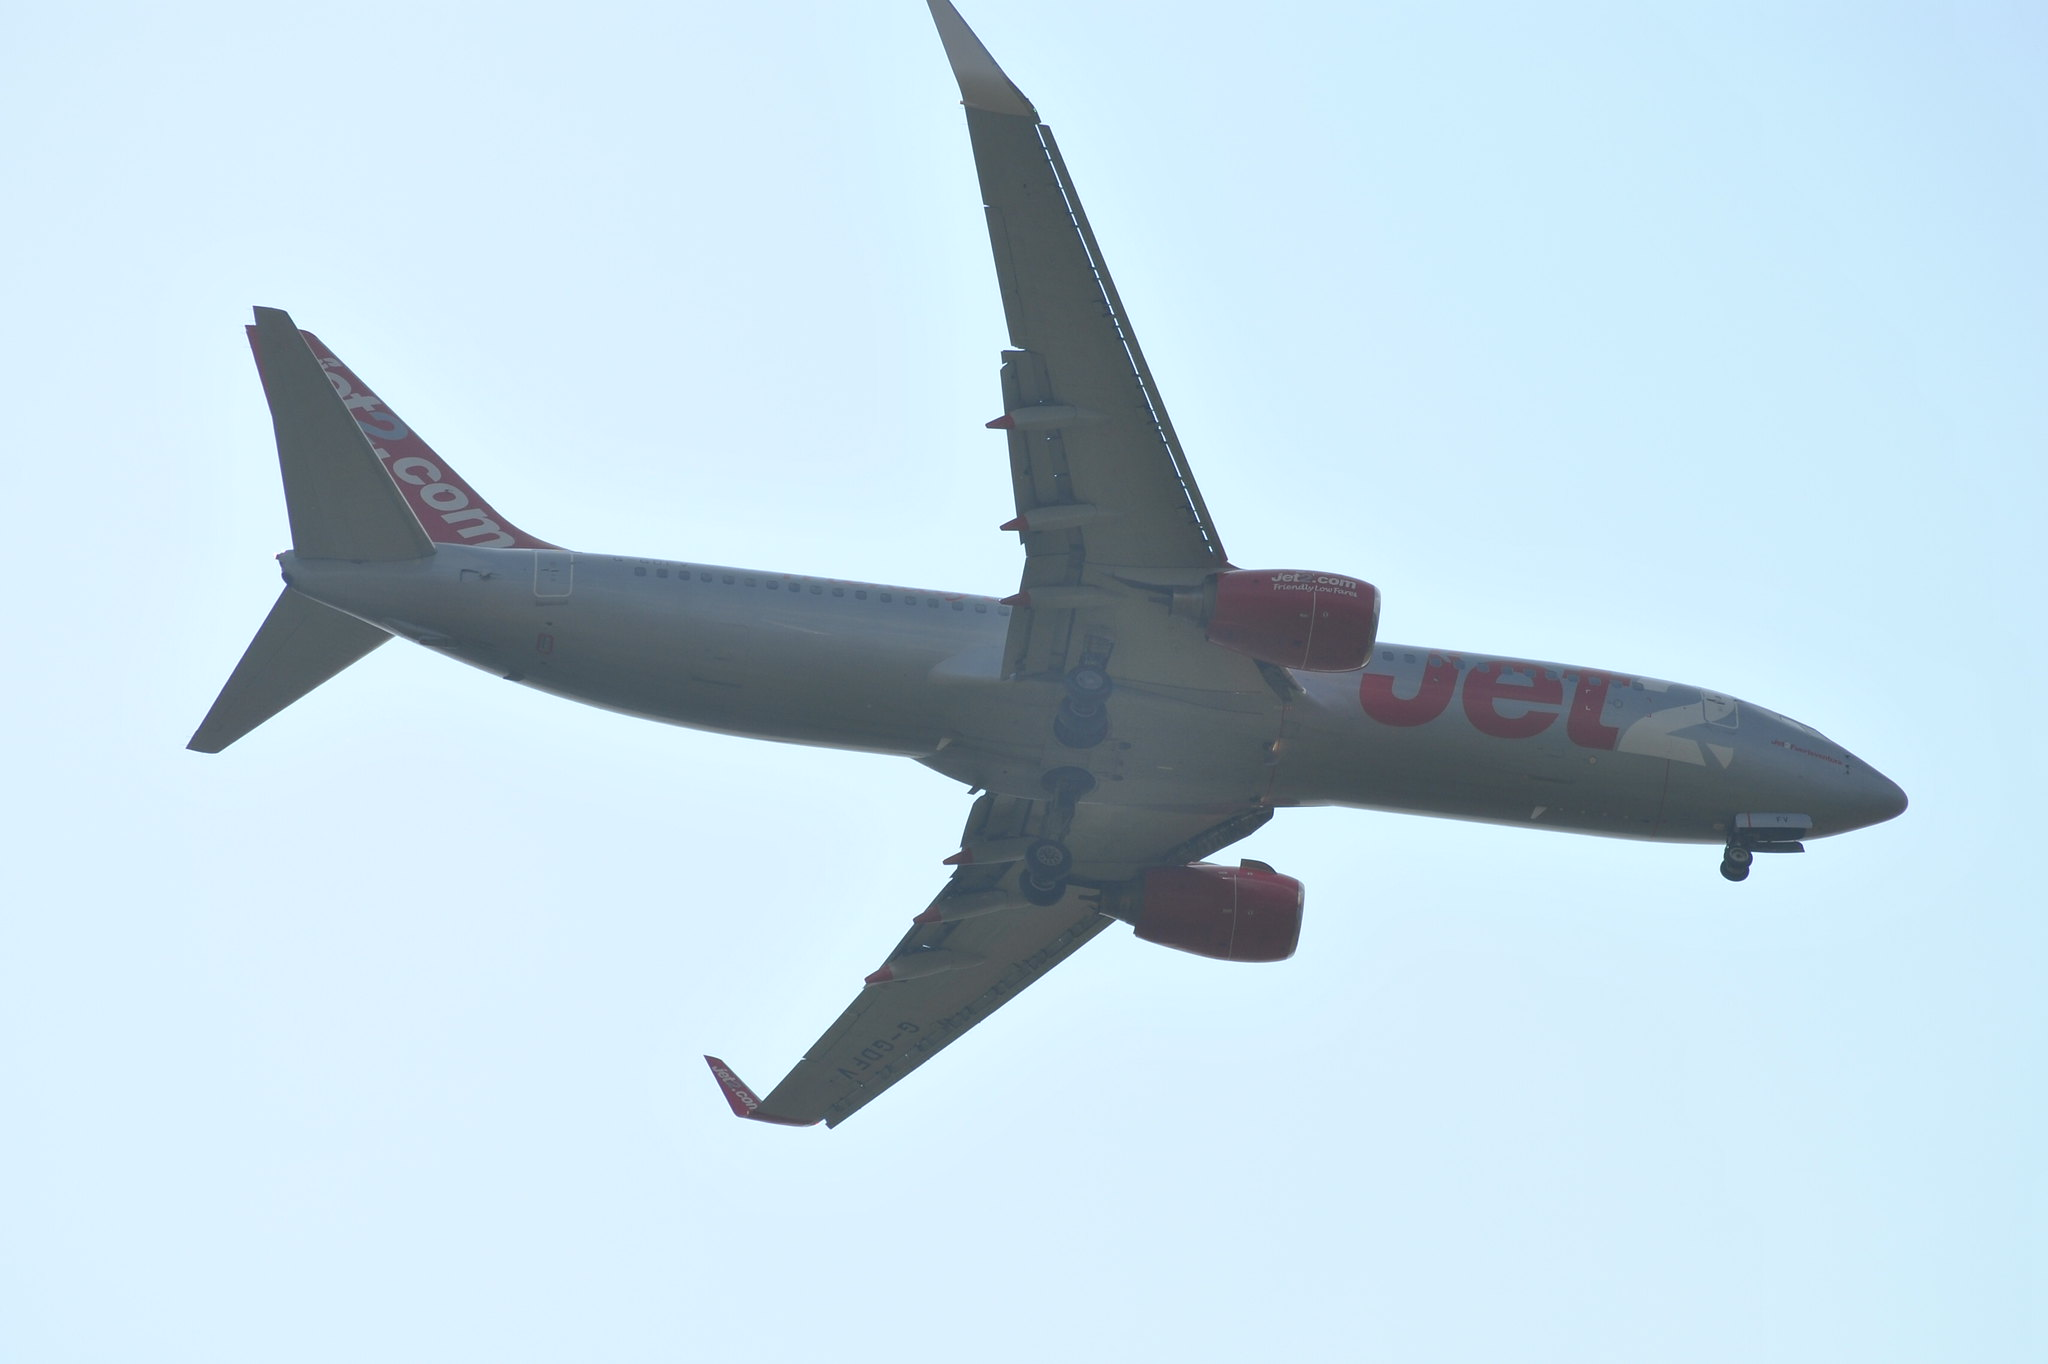aeroplane: (195, 9, 1913, 1142)
